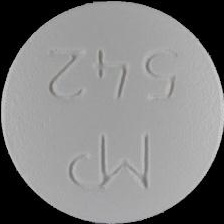68788-9227: (0, 0, 224, 224)
